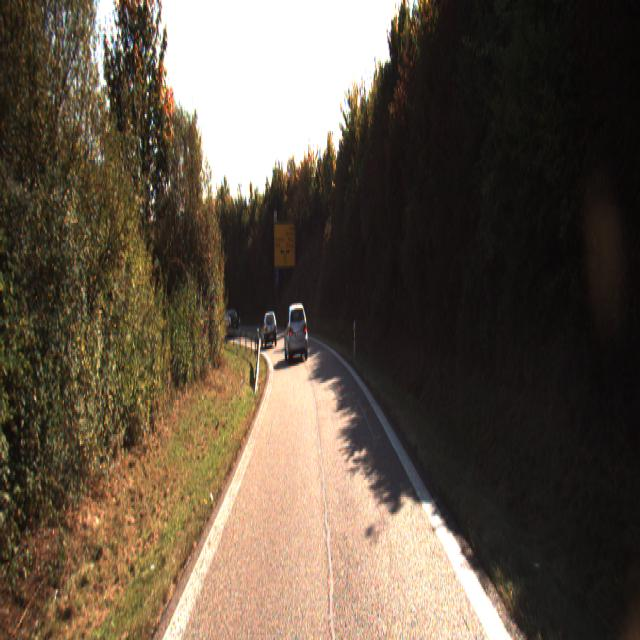Car: (284, 301, 308, 361), (260, 310, 278, 345), (222, 308, 238, 334)
